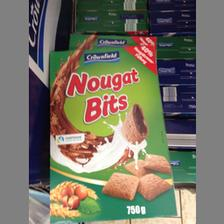Cerealien: (46, 43, 178, 223)
